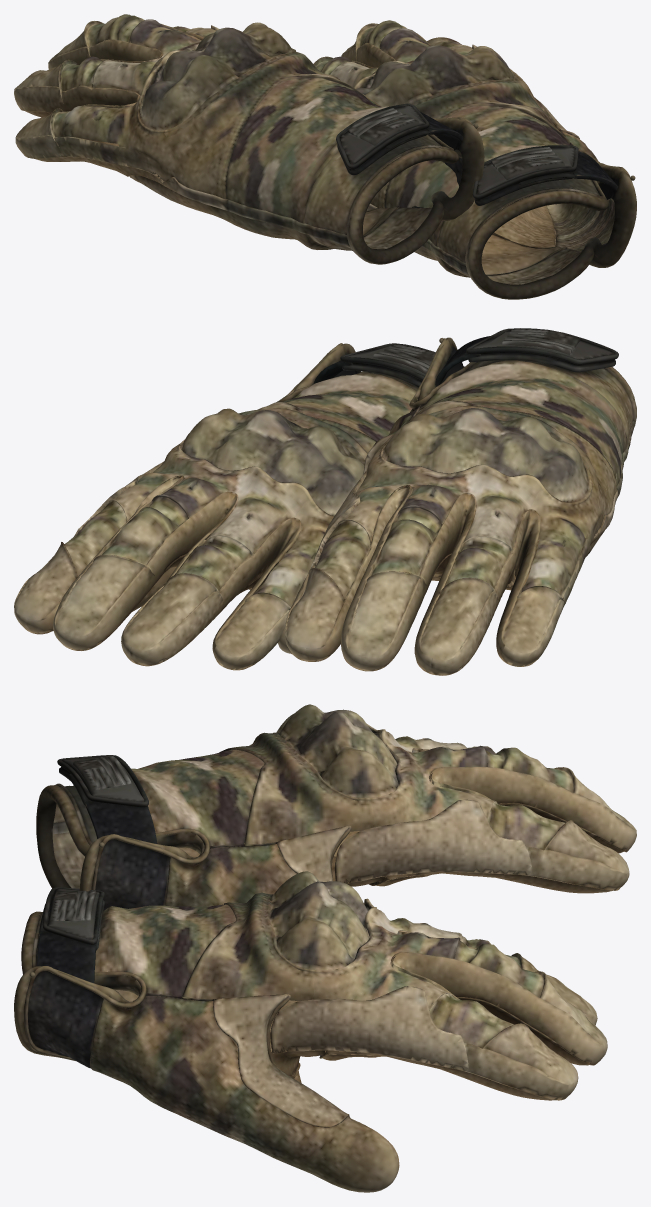
Rendered from tactical_gloves.c3e3a8816e.glb.
3 renders of one model, top to bottom at view 1: azimuth 30°, elevation 25°; view 2: azimuth 150°, elevation 25°; view 3: azimuth 270°, elevation 25°, orthographic. The views are drawn at different scales.
Parts seen in each view (by area): view 1: tactical_gloves; view 2: tactical_gloves; view 3: tactical_gloves.
Boxes of the visible parts, x1=… form: tactical_gloves: x1=14, y1=14, x2=636, y2=299; tactical_gloves: x1=14, y1=328, x2=636, y2=675; tactical_gloves: x1=14, y1=704, x2=636, y2=1192.
Size of the model in its own units: 0.2409 by 0.1303 by 0.2471.
1 material, 1 textured.
